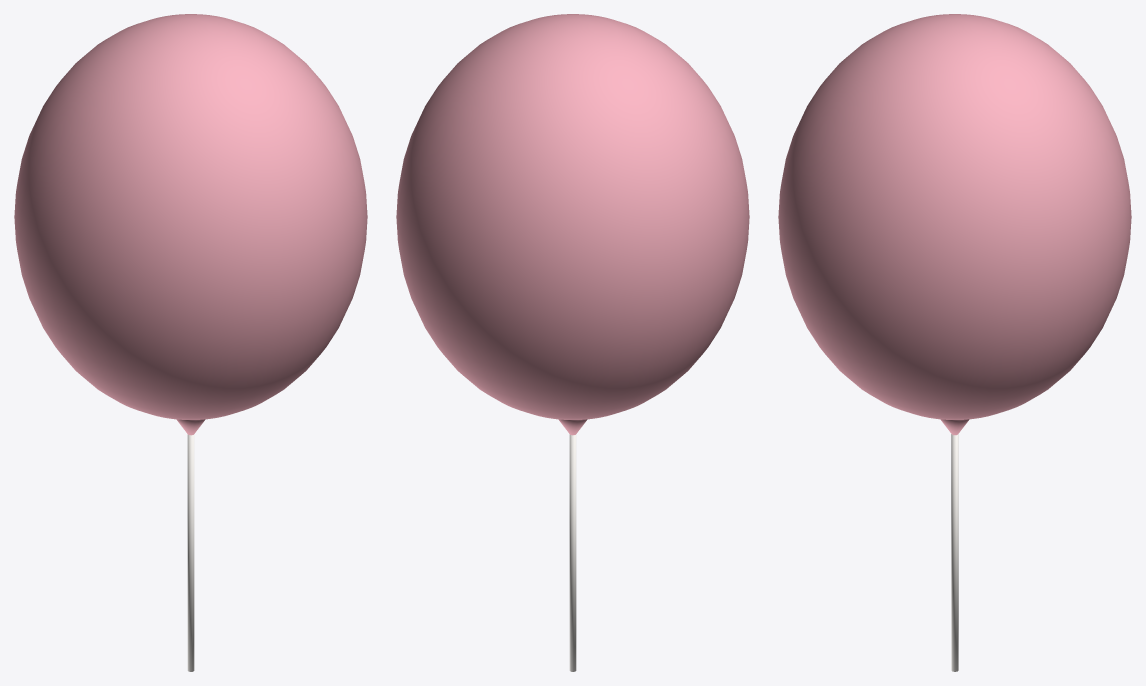
Rendered from balloon.glb.
The picture shows the model from 3 angles, left to right: view 1: azimuth 30°, elevation 25°; view 2: azimuth 150°, elevation 25°; view 3: azimuth 270°, elevation 25°; orthographic projection.
Parts seen in each view (by area): view 1: balloon; view 2: balloon; view 3: balloon.
Boxes of the visible parts, box(x1,y1,x2,y2) form: balloon: box(14, 14, 367, 671); balloon: box(396, 14, 749, 671); balloon: box(778, 14, 1131, 671).
Size of the model in its own units: 1.2 by 2.41 by 1.2.
